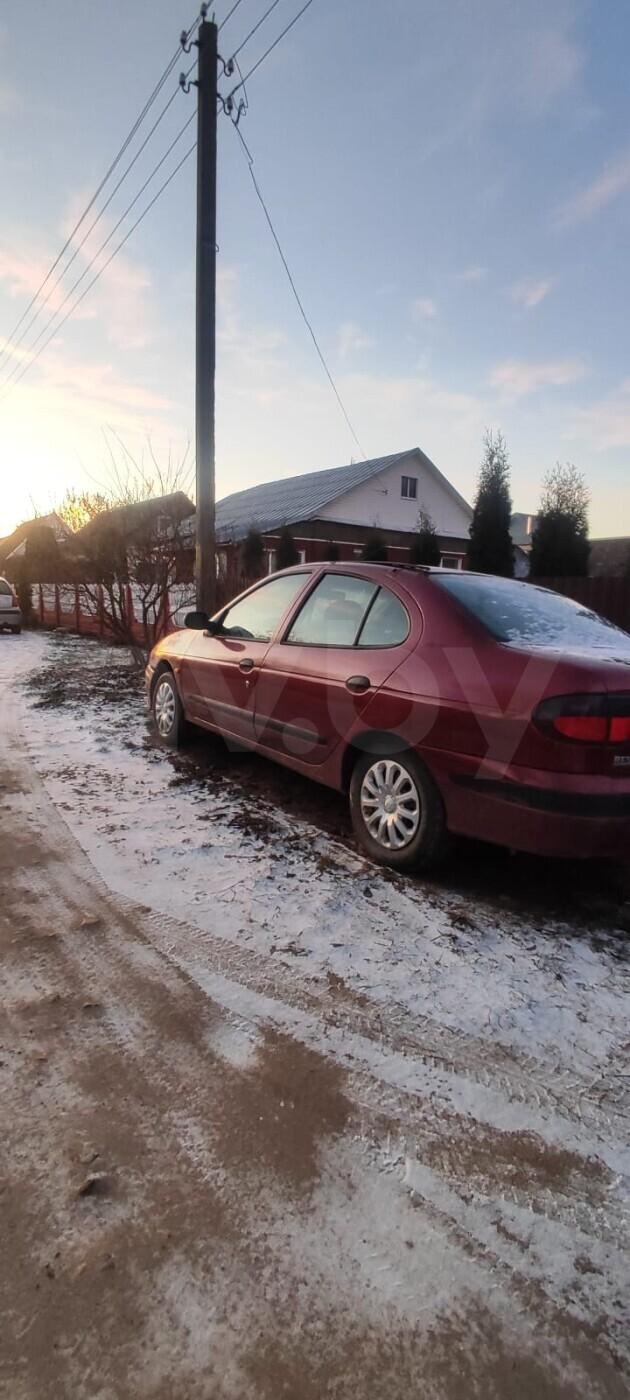Megane_1995-1999: (134, 544, 630, 948)
